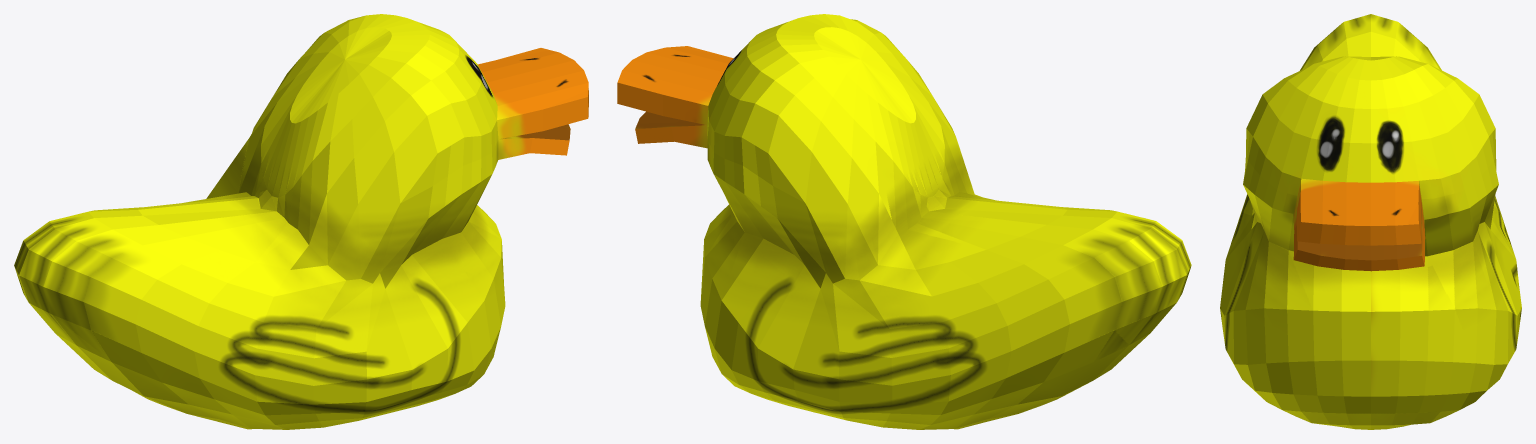
The model's file is RubberDuck.obj.
3 renders of one model, left to right at view 1: azimuth 30°, elevation 25°; view 2: azimuth 150°, elevation 25°; view 3: azimuth 270°, elevation 25°, orthographic.
Visible parts, largest first — view 1: DUCK!_Sphere; view 2: DUCK!_Sphere; view 3: DUCK!_Sphere.
Part boxes in pixels (x1,y1,x2,y2): DUCK!_Sphere: (14, 14, 588, 429); DUCK!_Sphere: (617, 14, 1191, 429); DUCK!_Sphere: (1220, 14, 1521, 429).
Bounding box in the file's own units: 4.26 × 2.59 × 2.
